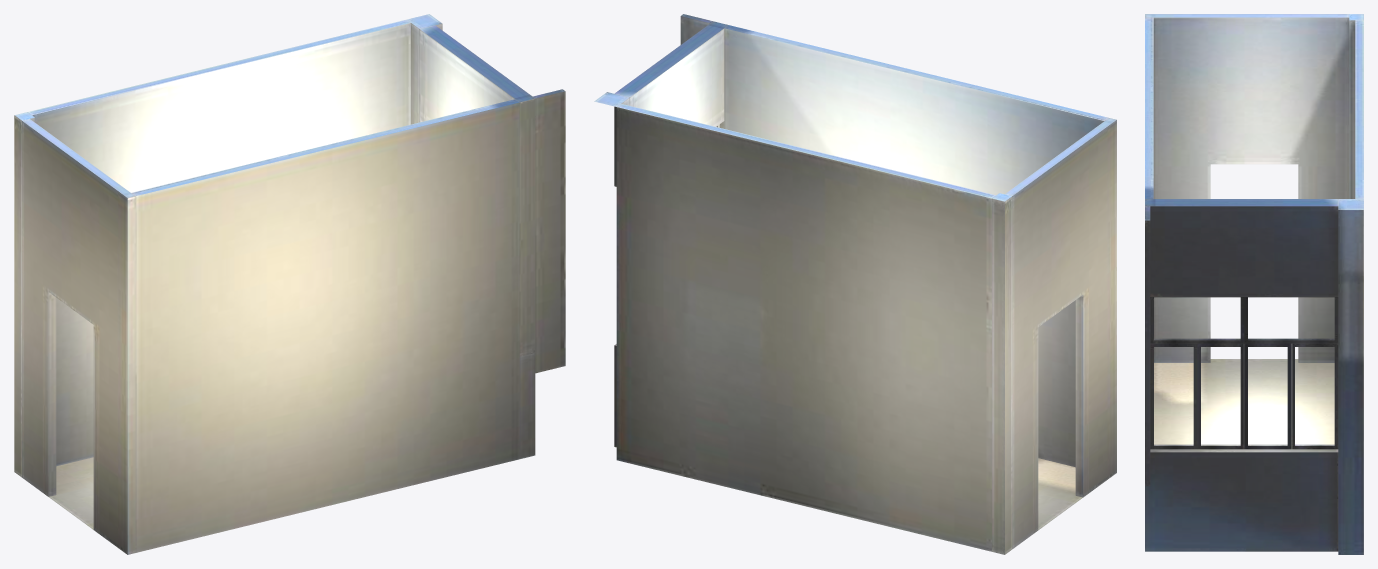
3 views of the same model, side by side, from view 1: azimuth 30°, elevation 25°; view 2: azimuth 150°, elevation 25°; view 3: azimuth 270°, elevation 25° (orthographic). The views are drawn at different scales.
Visible parts, largest first — view 1: HC10_0; view 2: HC10_0; view 3: HC10_0.
Part boxes in pixels (bbox=[...]): HC10_0: bbox=[14, 14, 565, 554]; HC10_0: bbox=[594, 14, 1116, 554]; HC10_0: bbox=[1145, 14, 1363, 554].
Size of the model in its own units: 0.67 by 0.5218 by 0.3.
